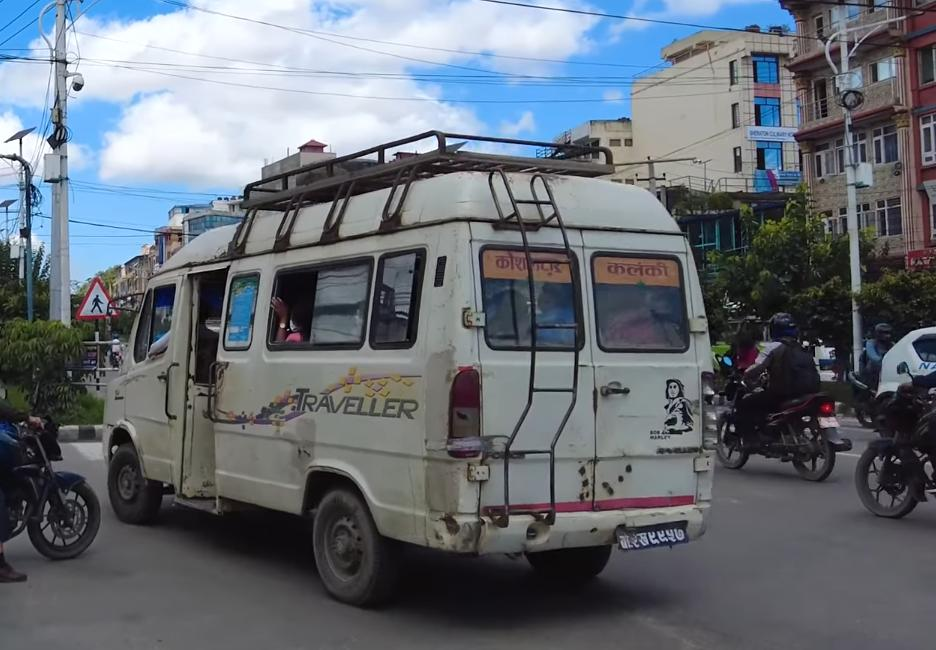bike: (718, 353, 846, 487), (0, 403, 103, 568), (861, 382, 936, 528)
micro_bus: (95, 132, 718, 616)
